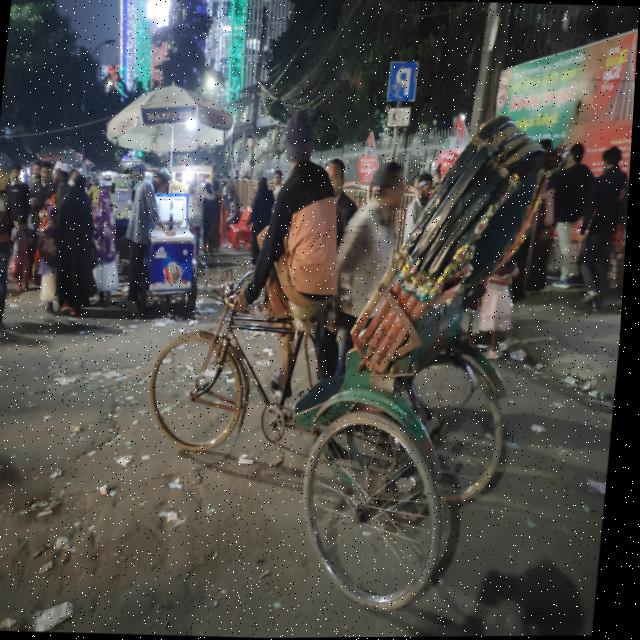rikshaw: (140, 99, 548, 552)
